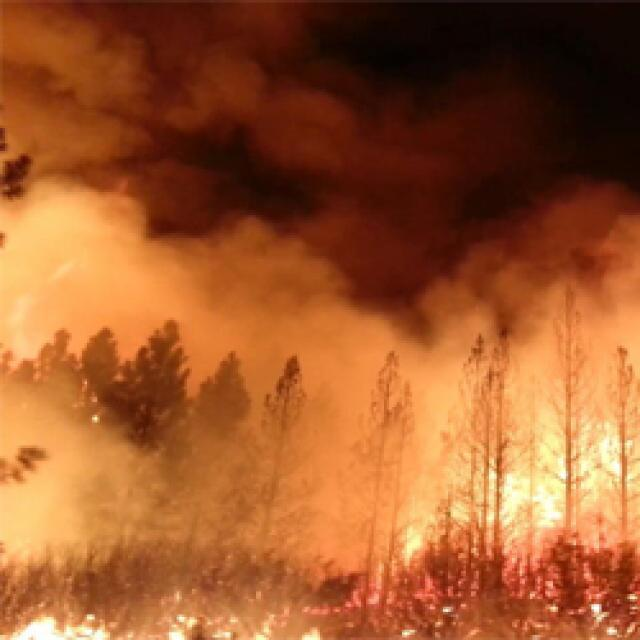Fire: (491, 428, 636, 525), (0, 594, 118, 640), (571, 596, 640, 640), (393, 506, 442, 560), (170, 608, 233, 640), (290, 625, 326, 640), (248, 622, 272, 640)
Smoke: (0, 0, 640, 383), (0, 385, 392, 586), (388, 376, 491, 506), (490, 378, 640, 431)
